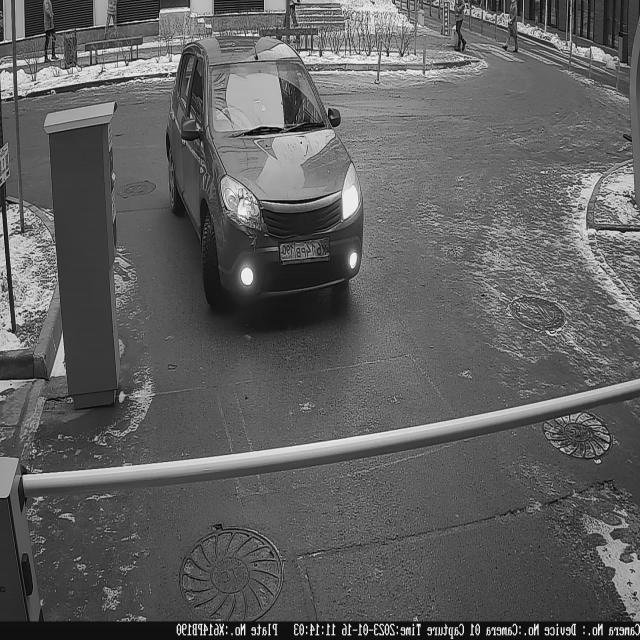car-plate-numbers: (277, 230, 334, 268)
